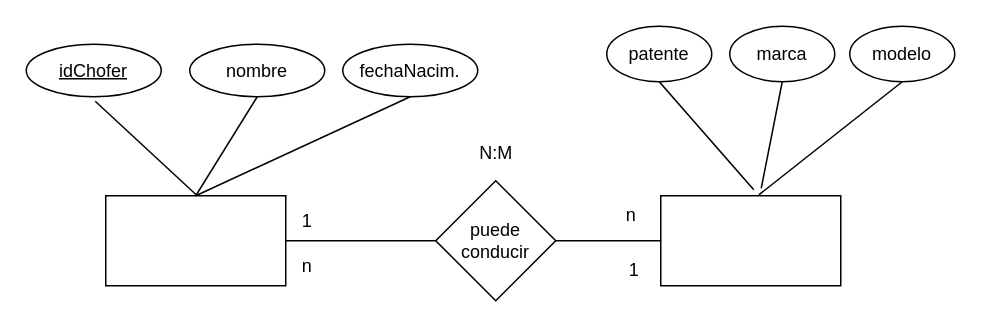
Image size: 981x327. Some labels were removed from this diagram. The box of each missing label's shape, as (x1, y1, x2, y2) in pixels:
Choferes: (104, 194, 286, 286)
Vehiculos: (659, 194, 841, 286)
